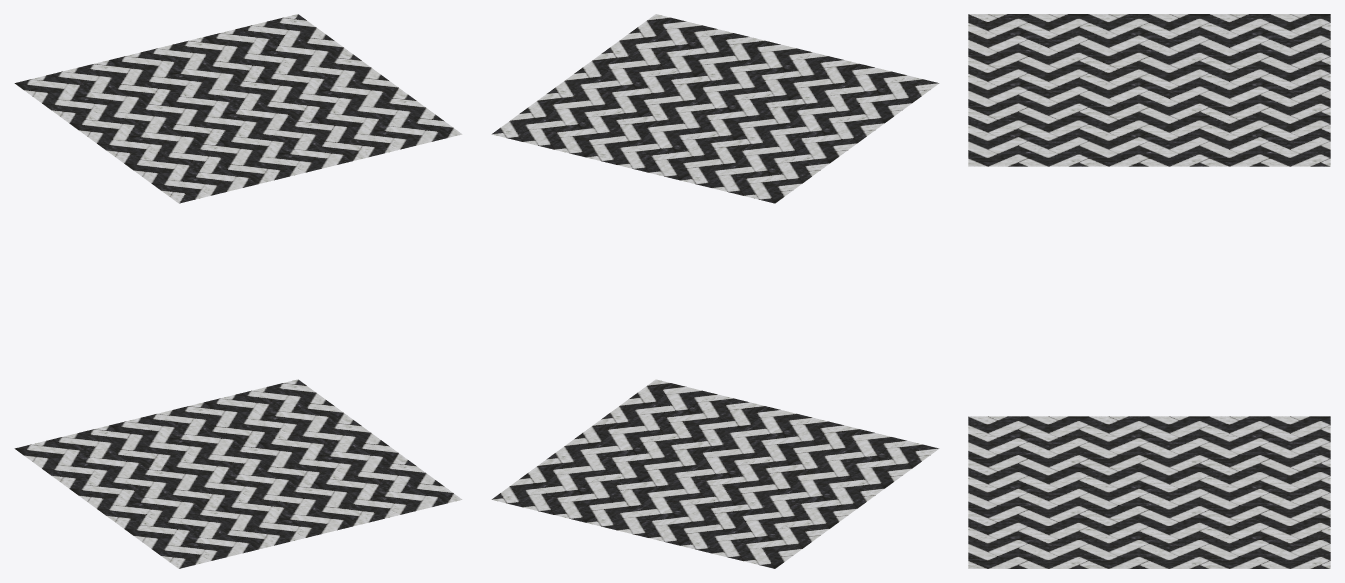
File: RedRoomFloor.fbx
3 renders of one model, left to right at view 1: azimuth 30°, elevation 25°; view 2: azimuth 150°, elevation 25°; view 3: azimuth 270°, elevation 25°, orthographic. The views are drawn at different scales.
Visible parts, largest first — view 1: Cube.013; view 2: Cube.013; view 3: Cube.013.
Part boxes in pixels (bbox=[...]): Cube.013: bbox=[14, 14, 462, 568]; Cube.013: bbox=[491, 14, 939, 568]; Cube.013: bbox=[968, 14, 1330, 568].
Bounding box in the file's own units: 207 × 254 × 207.
